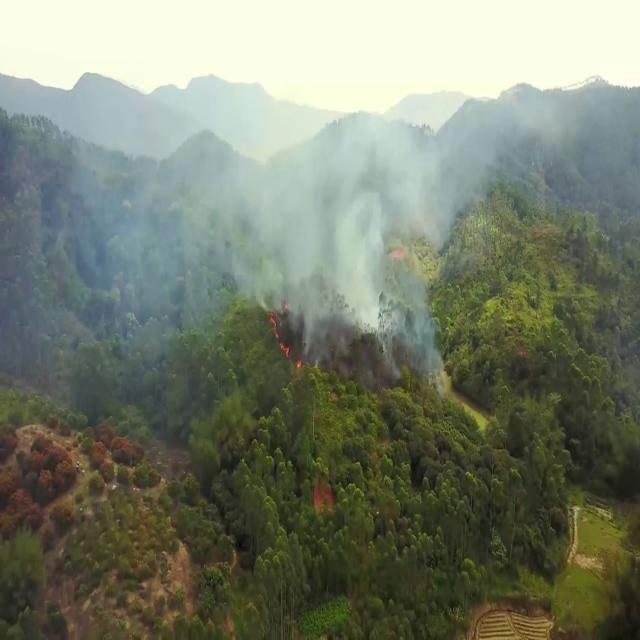Fire: (268, 310, 290, 360)
Smoke: (0, 52, 640, 394)
